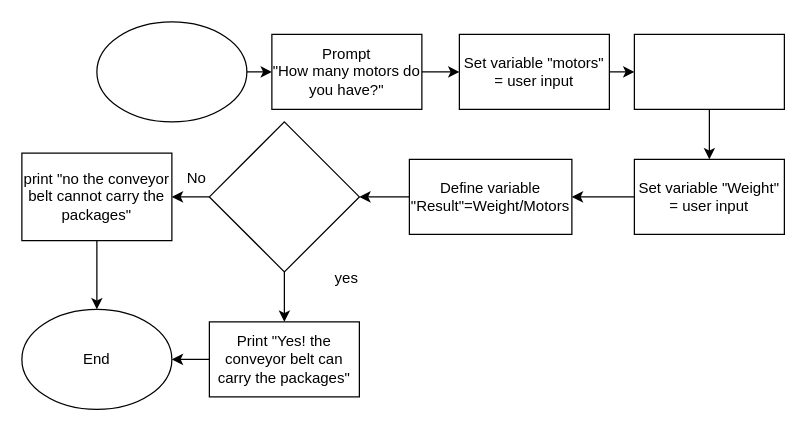
The diagram is 806 pixels wide and 431 high, and some of its shapes have lost their labels. The shapes that lost their labels are listed below. From the top down, each one's centre as x and y in pixels, then its label:
pixel 171 71: Start
pixel 708 71: Prompt "how many kg of packages do we expect?"
pixel 283 196: is Result >= 5.6?
